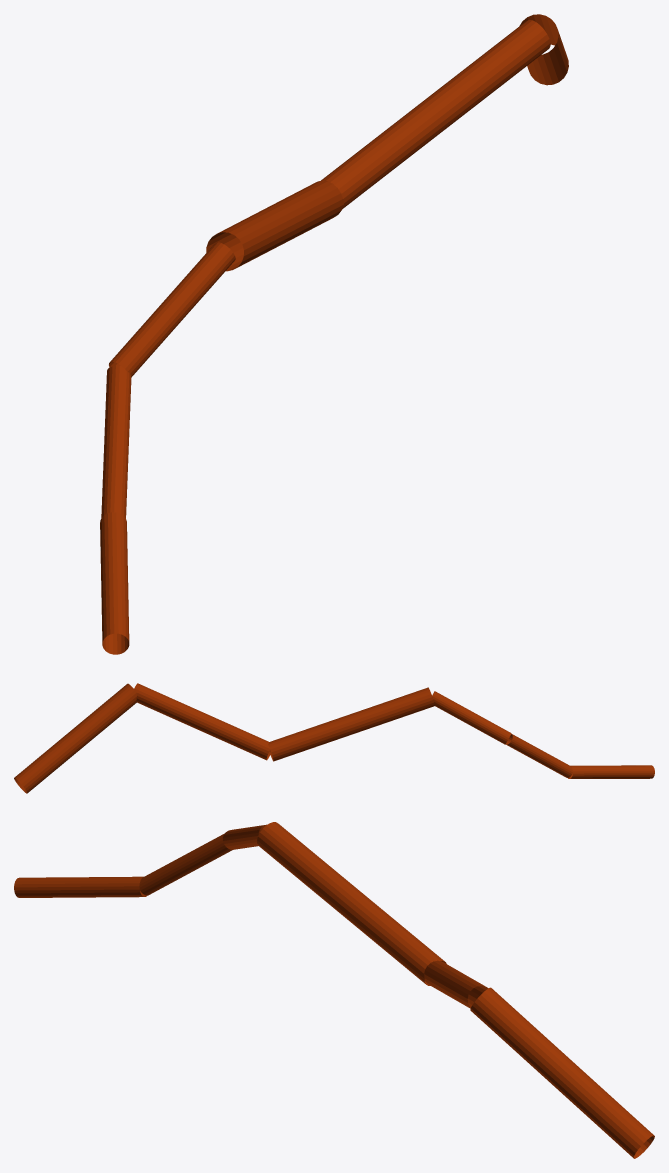
Rendered from tree_0001.obj.
The picture shows the model from 3 angles, top to bottom: view 1: azimuth 30°, elevation 25°; view 2: azimuth 150°, elevation 25°; view 3: azimuth 270°, elevation 25°; orthographic projection. The views are drawn at different scales.
Parts seen in each view (by area): view 1: groupWood; view 2: groupWood; view 3: groupWood.
Part boxes in pixels (x1,y1,x2,y2): groupWood: [100, 14, 568, 654]; groupWood: [14, 683, 654, 793]; groupWood: [14, 822, 654, 1158].
Bounding box in the file's own units: 1.15 × 0.2961 × 0.9683.
